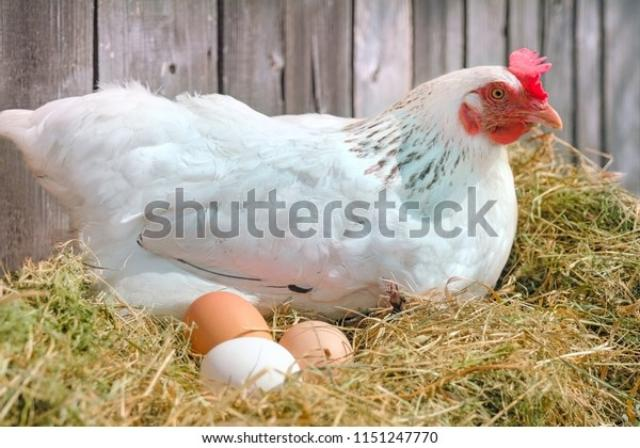Chicken: (2, 48, 564, 320)
